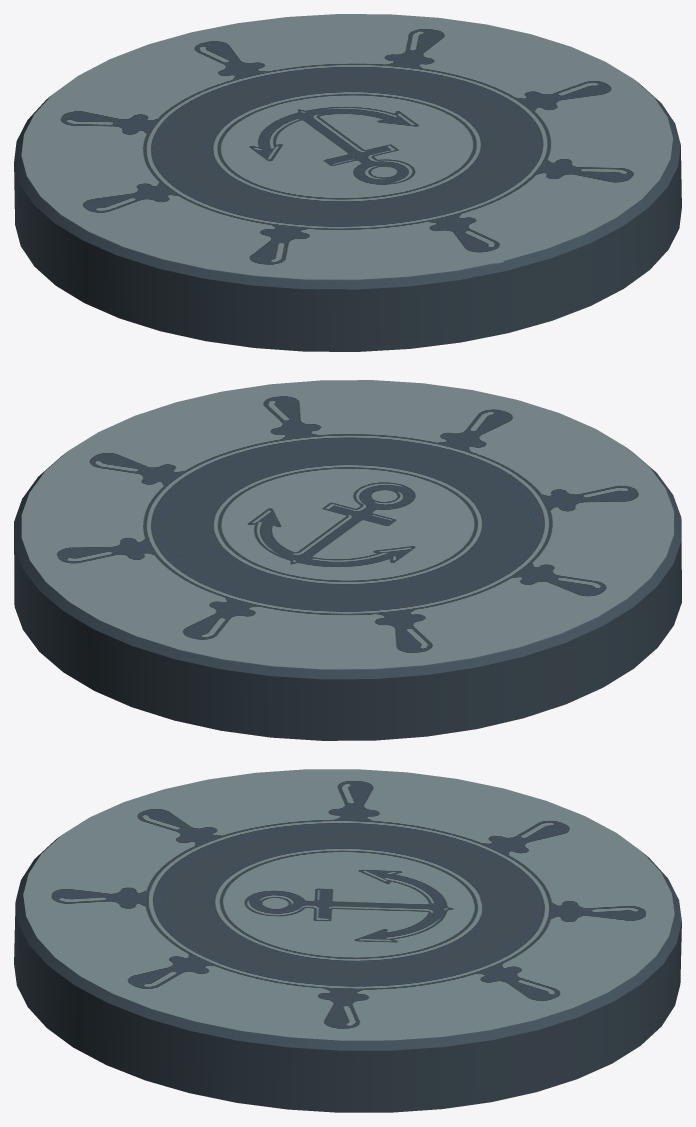
The model's file is silver.glb.
3 renders of one model, top to bottom at view 1: azimuth 30°, elevation 25°; view 2: azimuth 150°, elevation 25°; view 3: azimuth 270°, elevation 25°, orthographic.
Visible parts, largest first — view 1: pCylinder3; view 2: pCylinder3; view 3: pCylinder3.
Part boxes in pixels (x1=…): pCylinder3: x1=14, y1=14, x2=681, y2=351; pCylinder3: x1=14, y1=380, x2=681, y2=740; pCylinder3: x1=14, y1=769, x2=681, y2=1112.
Size of the model in its own units: 1.67 by 0.2278 by 1.67.
Materials: 1 (1 with a texture image).
